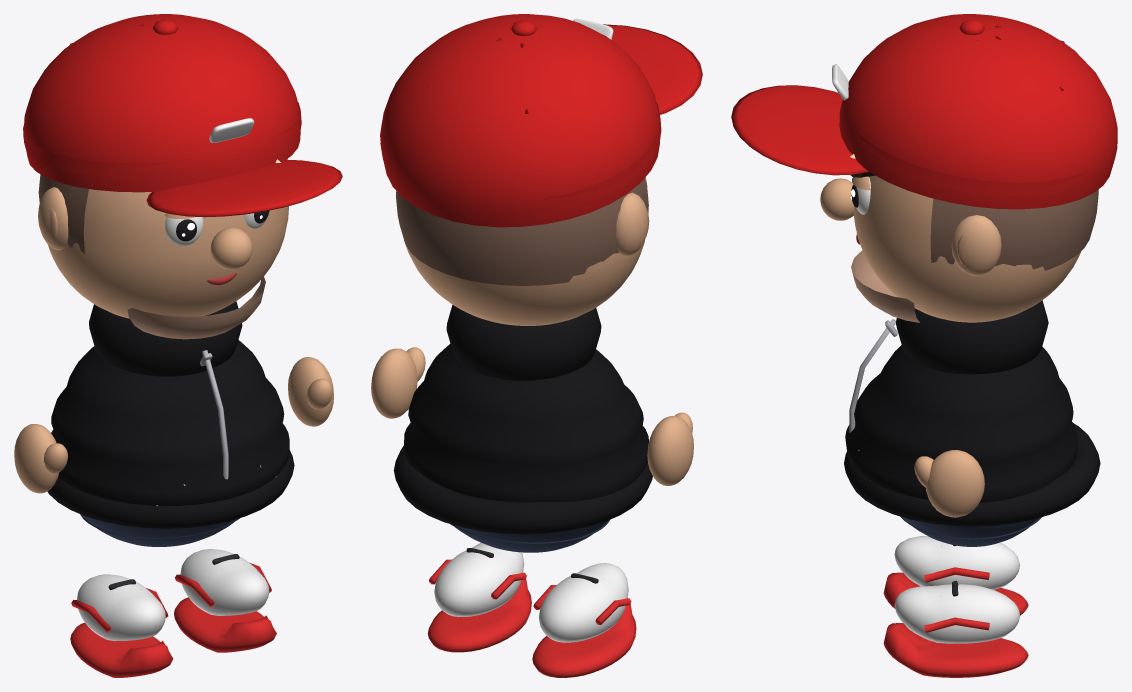
File: char_hirsiz.glb
3 views of the same model, side by side, from view 1: azimuth 30°, elevation 25°; view 2: azimuth 150°, elevation 25°; view 3: azimuth 270°, elevation 25° (orthographic).
Parts seen in each view (by area): view 1: Head, Body, FootR, FootL, HandR, HandL, EyeR; view 2: Head, Body, FootR, FootL, HandL, HandR; view 3: Head, Body, FootL, FootR, HandL.
Boxes of the visible parts, box(x1,y1,x2,y2) form: Head: box(23, 14, 342, 339); Body: box(47, 301, 294, 546); FootR: box(70, 574, 173, 677); FootL: box(174, 549, 276, 652); HandR: box(14, 424, 67, 493); HandL: box(288, 357, 333, 426); EyeR: box(164, 213, 203, 245); Head: box(380, 14, 702, 325); Body: box(393, 305, 652, 552); FootR: box(532, 563, 636, 677); FootL: box(427, 542, 531, 652); HandL: box(371, 347, 425, 418); HandR: box(647, 412, 693, 485); Head: box(731, 14, 1117, 322); Body: box(844, 300, 1100, 546); FootL: box(883, 580, 1028, 677); FootR: box(883, 536, 1028, 615); HandL: box(914, 450, 984, 517).
Size of the model in its own units: 0.836 by 1.6 by 0.9095.
